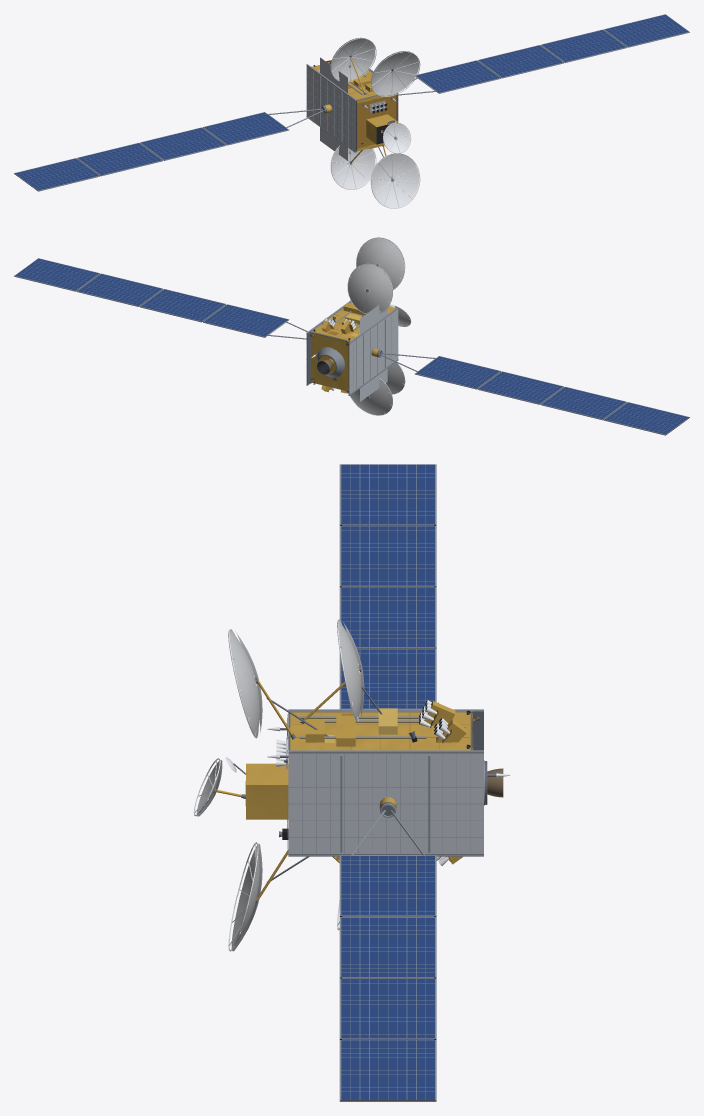
Rendered from bus-eurostar-e3000.glb.
The picture shows the model from 3 angles, top to bottom: view 1: azimuth 30°, elevation 25°; view 2: azimuth 150°, elevation 25°; view 3: azimuth 270°, elevation 25°; orthographic projection. The views are drawn at different scales.
Parts seen in each view (by area): view 1: body, solar-panel, foil; view 2: body, solar-panel, foil; view 3: body, solar-panel, foil.
Boxes of the visible parts, <box> form: body: <box>14,14,689,208</box>; solar-panel: <box>15,14,688,190</box>; foil: <box>312,57,397,178</box>; body: <box>14,237,689,435</box>; solar-panel: <box>15,258,688,434</box>; foil: <box>311,290,395,393</box>; body: <box>193,464,510,1101</box>; solar-panel: <box>341,464,434,1099</box>; foil: <box>215,668,473,900</box>.
Bounding box in the file's own units: 39.2 × 8.96 × 8.24.
